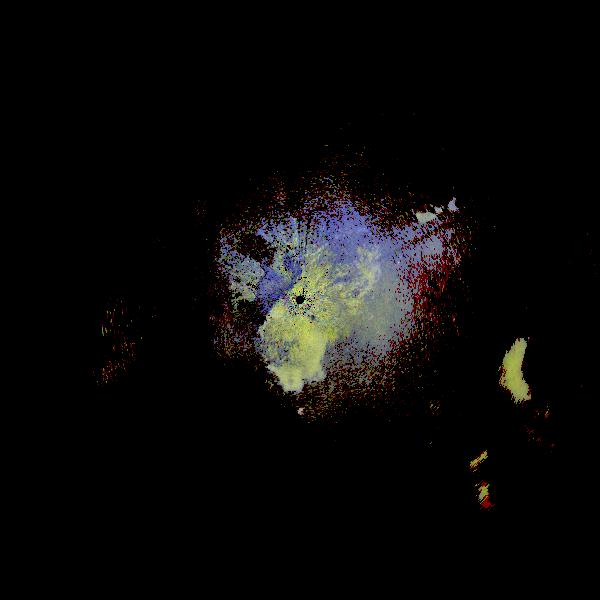roost: (451, 404, 600, 563), (480, 303, 600, 444), (239, 299, 353, 413)
